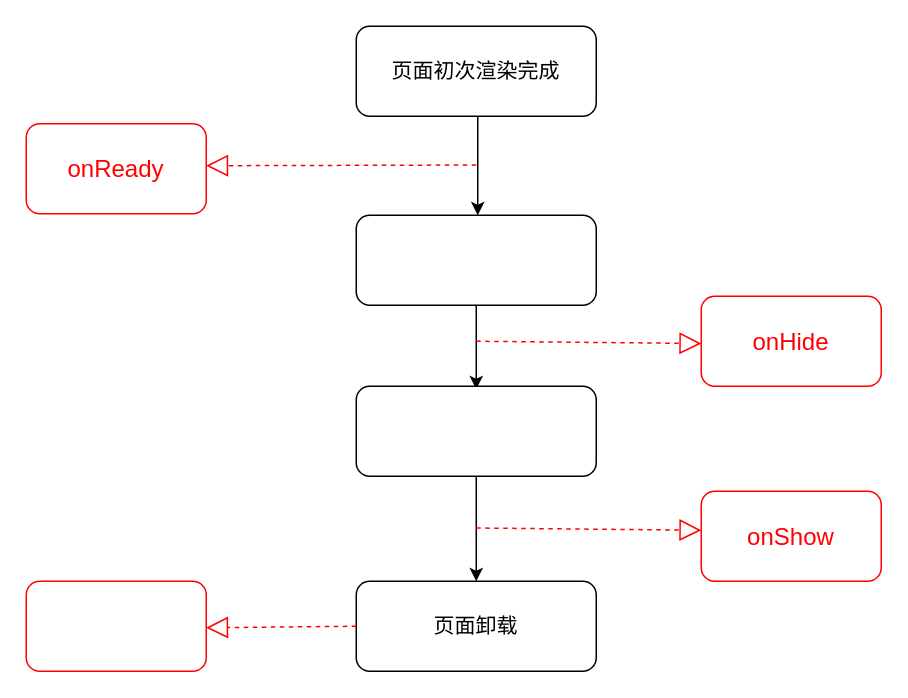
The diagram is 908 pixels wide and 698 high, and some of its shapes have lost their labels. Each missing label, with the centre of its shape:
"onUnload" belongs at point 115,625.
"打开新页面" belongs at point 475,259.
"新页面返回" belongs at point 475,430.
